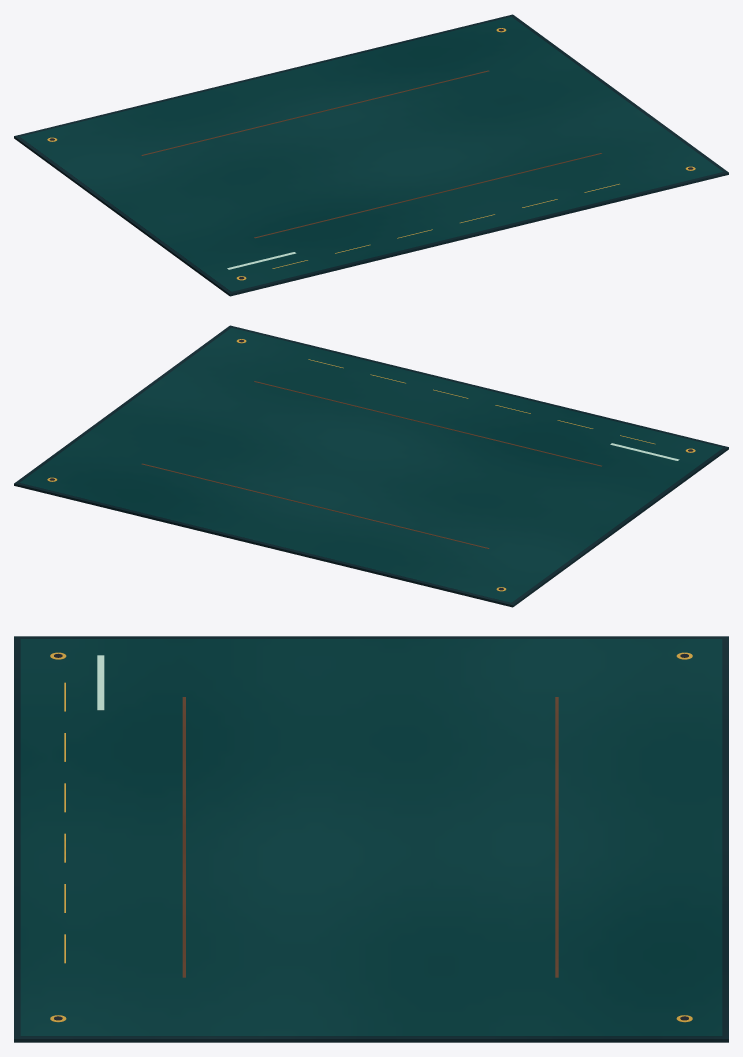
Rendered from 297_L122_PCB_Main.obj.
The picture shows the model from 3 angles, top to bottom: view 1: azimuth 30°, elevation 25°; view 2: azimuth 150°, elevation 25°; view 3: azimuth 270°, elevation 25°; orthographic projection. The views are drawn at different scales.
Parts seen in each view (by area): view 1: 297_L122_PCB_Main__PSMAT__mask_top, 297_L122_PCB_Main__PSMAT__pcb_substrate, 297_L122_PCB_Main__PSMAT__copper_dark; view 2: 297_L122_PCB_Main__PSMAT__mask_top, 297_L122_PCB_Main__PSMAT__pcb_substrate, 297_L122_PCB_Main__PSMAT__copper_dark; view 3: 297_L122_PCB_Main__PSMAT__mask_top, 297_L122_PCB_Main__PSMAT__pcb_substrate, 297_L122_PCB_Main__PSMAT__copper_dark, 297_L122_PCB_Main__PSMAT__gold.
Part boxes in pixels (x1,y1,x2,y2): 297_L122_PCB_Main__PSMAT__mask_top: (20,16,722,291); 297_L122_PCB_Main__PSMAT__pcb_substrate: (14,14,728,296); 297_L122_PCB_Main__PSMAT__copper_dark: (141,70,601,238); 297_L122_PCB_Main__PSMAT__mask_top: (20,327,722,602); 297_L122_PCB_Main__PSMAT__pcb_substrate: (14,325,728,607); 297_L122_PCB_Main__PSMAT__copper_dark: (141,381,601,548); 297_L122_PCB_Main__PSMAT__mask_top: (20,639,722,1036); 297_L122_PCB_Main__PSMAT__pcb_substrate: (14,636,728,1042); 297_L122_PCB_Main__PSMAT__copper_dark: (182,697,558,977); 297_L122_PCB_Main__PSMAT__gold: (50,652,692,1022).
Bounding box in the file's own units: 0.56 × 0.00284 × 0.42.
Materials: 6 (6 with a texture image).
